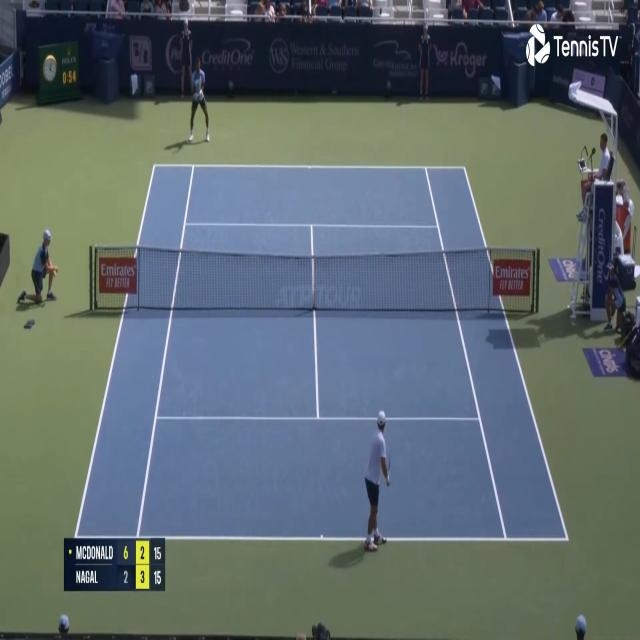tennis-player: (360, 406, 392, 557), (186, 56, 211, 143)
